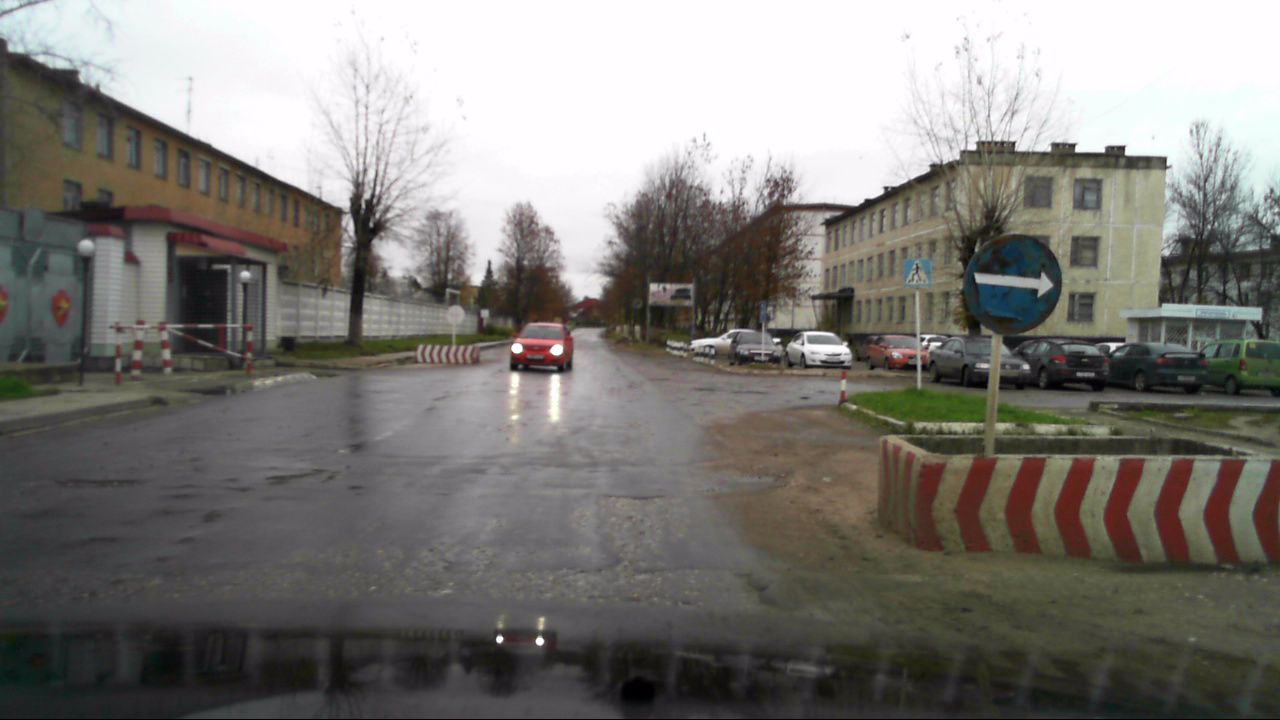Turn Right: (963, 233, 1062, 334)
